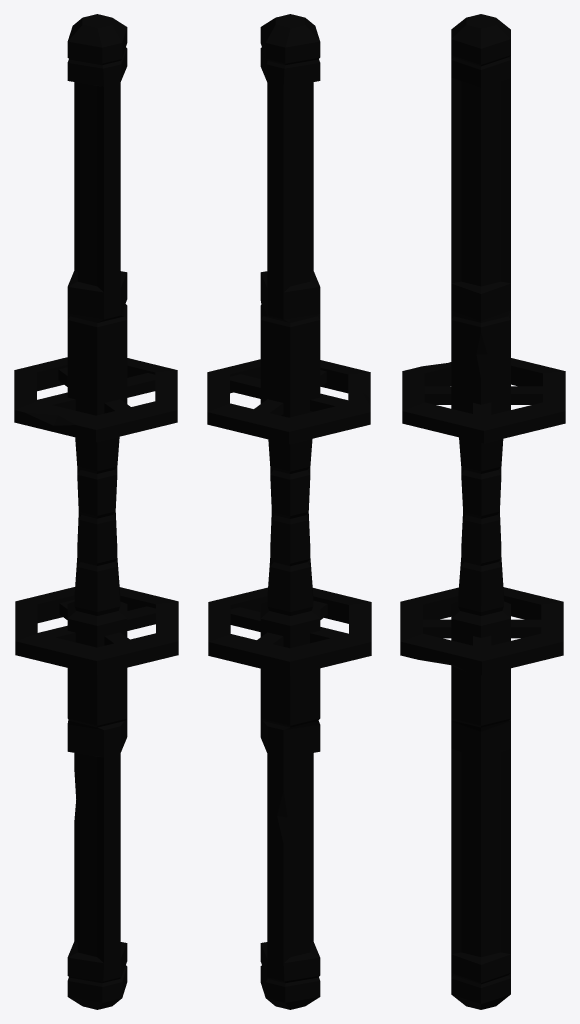
Rendered from cyber_SM_Wep_Shock_Stick_03.gltf.
3 views of the same model, side by side, from view 1: azimuth 30°, elevation 25°; view 2: azimuth 150°, elevation 25°; view 3: azimuth 270°, elevation 25° (orthographic).
Visible parts, largest first — view 1: SM_Wep_Shock_Stick_03; view 2: SM_Wep_Shock_Stick_03; view 3: SM_Wep_Shock_Stick_03.
Part boxes in pixels (<box>): SM_Wep_Shock_Stick_03: <box>14,14,178,1009</box>; SM_Wep_Shock_Stick_03: <box>207,14,371,1009</box>; SM_Wep_Shock_Stick_03: <box>400,14,565,1009</box>.
Bounding box in the file's own units: 0.2209 × 1.27 × 0.1935.
1 material, 1 textured.
